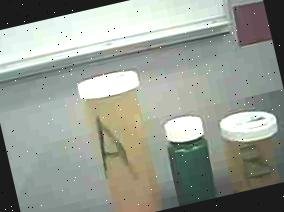Bottle A: (71, 67, 171, 212)
Bottle B: (213, 96, 284, 193)
Bottle C: (155, 107, 223, 207)
